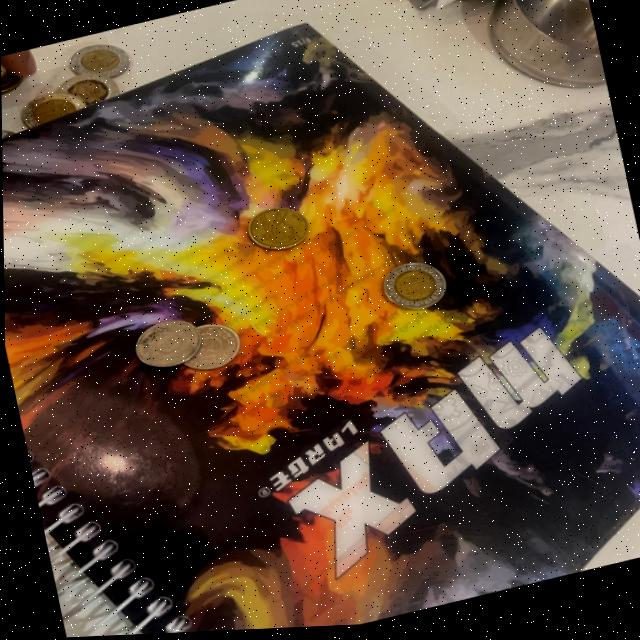Half Pound: (241, 202, 305, 267)
One Pound: (374, 255, 449, 335), (19, 83, 69, 145), (67, 36, 136, 79), (71, 75, 117, 109)
quarter pound: (127, 311, 207, 380), (180, 319, 235, 383)
